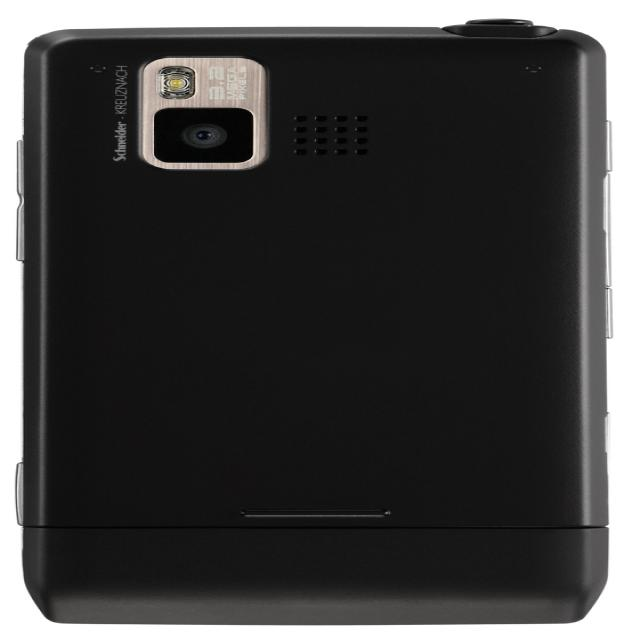Mobile-phone: (30, 30, 609, 619)
